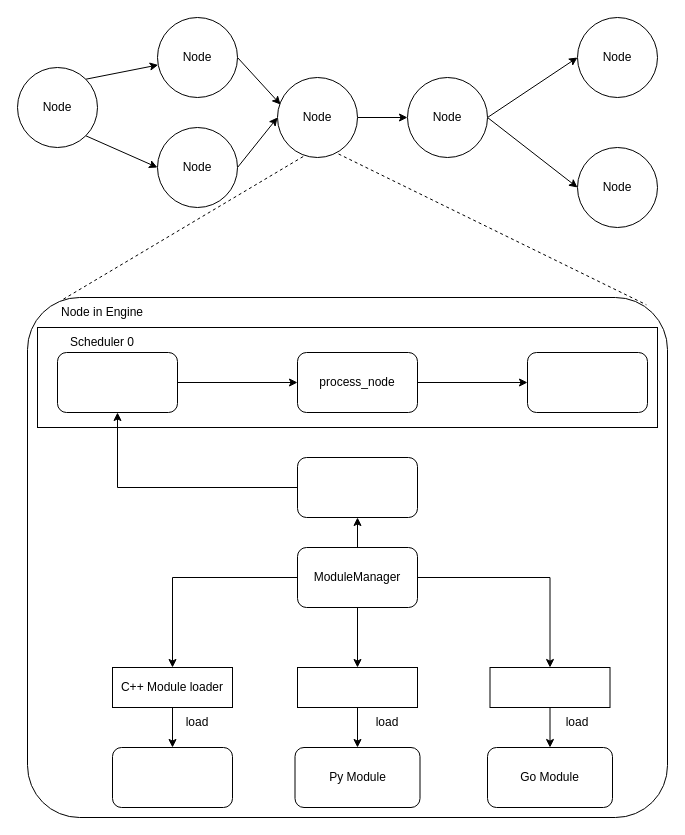
The diagram is 685 pixels wide and 835 high, and some of its shapes have lost their labels. Each missing label, with the centre of its shape:
"C++ Module" goes at point (172, 777).
"close" goes at point (587, 382).
"Go Module Loader" goes at point (549, 687).
"ModuleInstance - init() - process() - close()" goes at point (357, 487).
"Node_Constructor" goes at point (117, 382).
"Py Module Loader" goes at point (357, 687).
